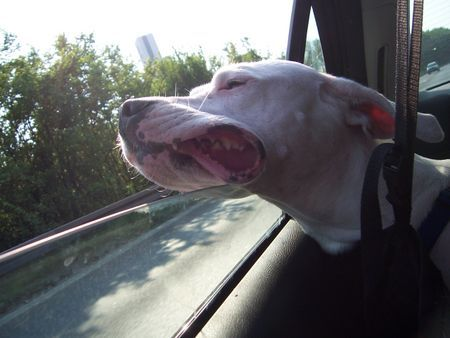dogo_argentino: (116, 58, 450, 281)
